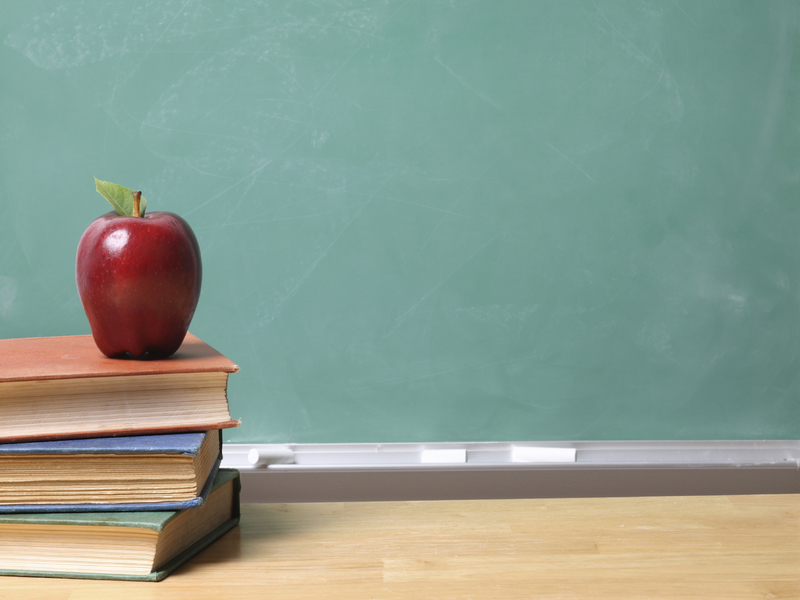apple: (76, 197, 202, 357)
